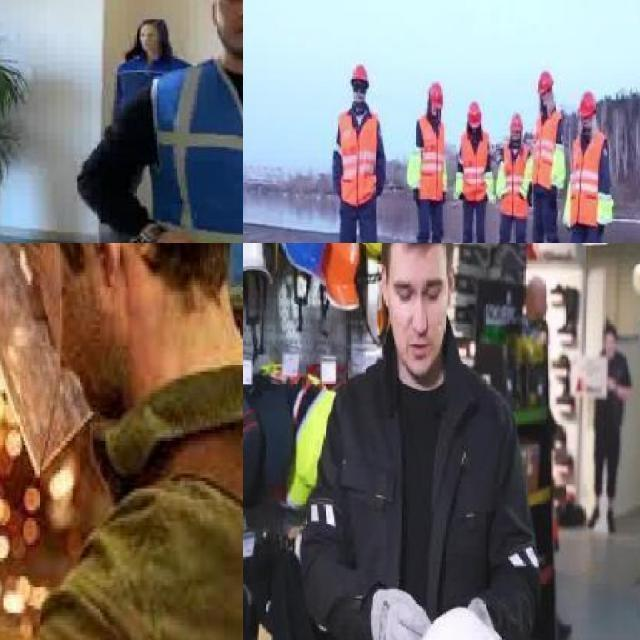apron: (367, 573, 431, 640), (550, 184, 556, 209), (528, 182, 533, 208)
